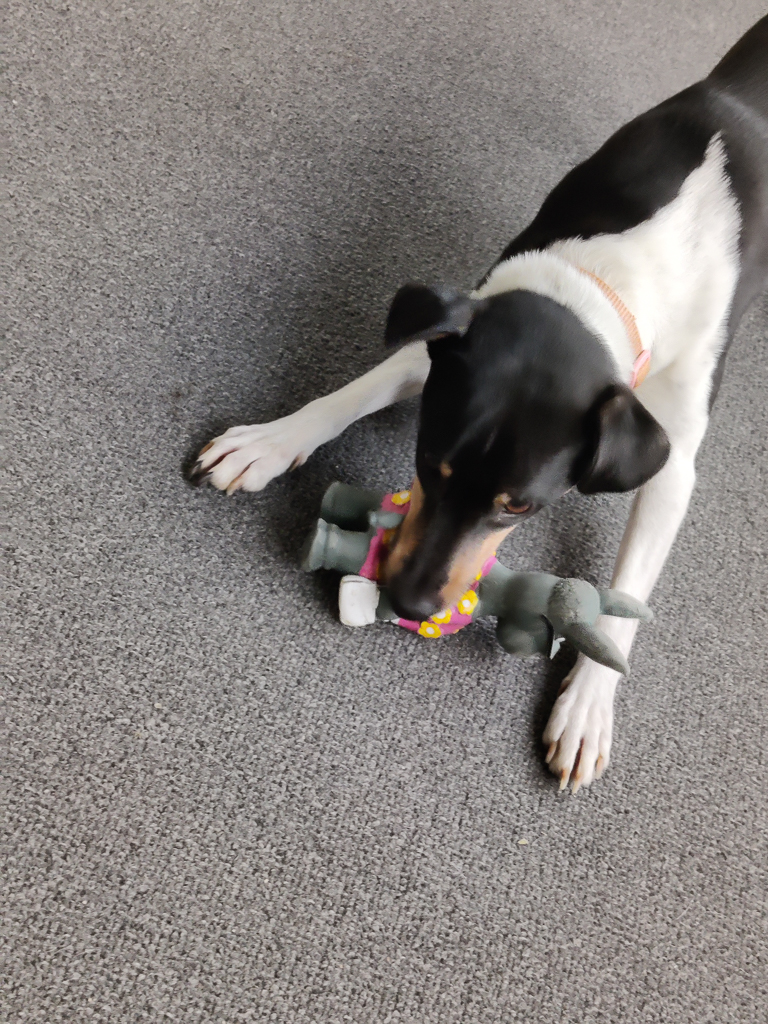Dog: (163, 11, 768, 812)
Humanoid: (282, 445, 714, 705)
